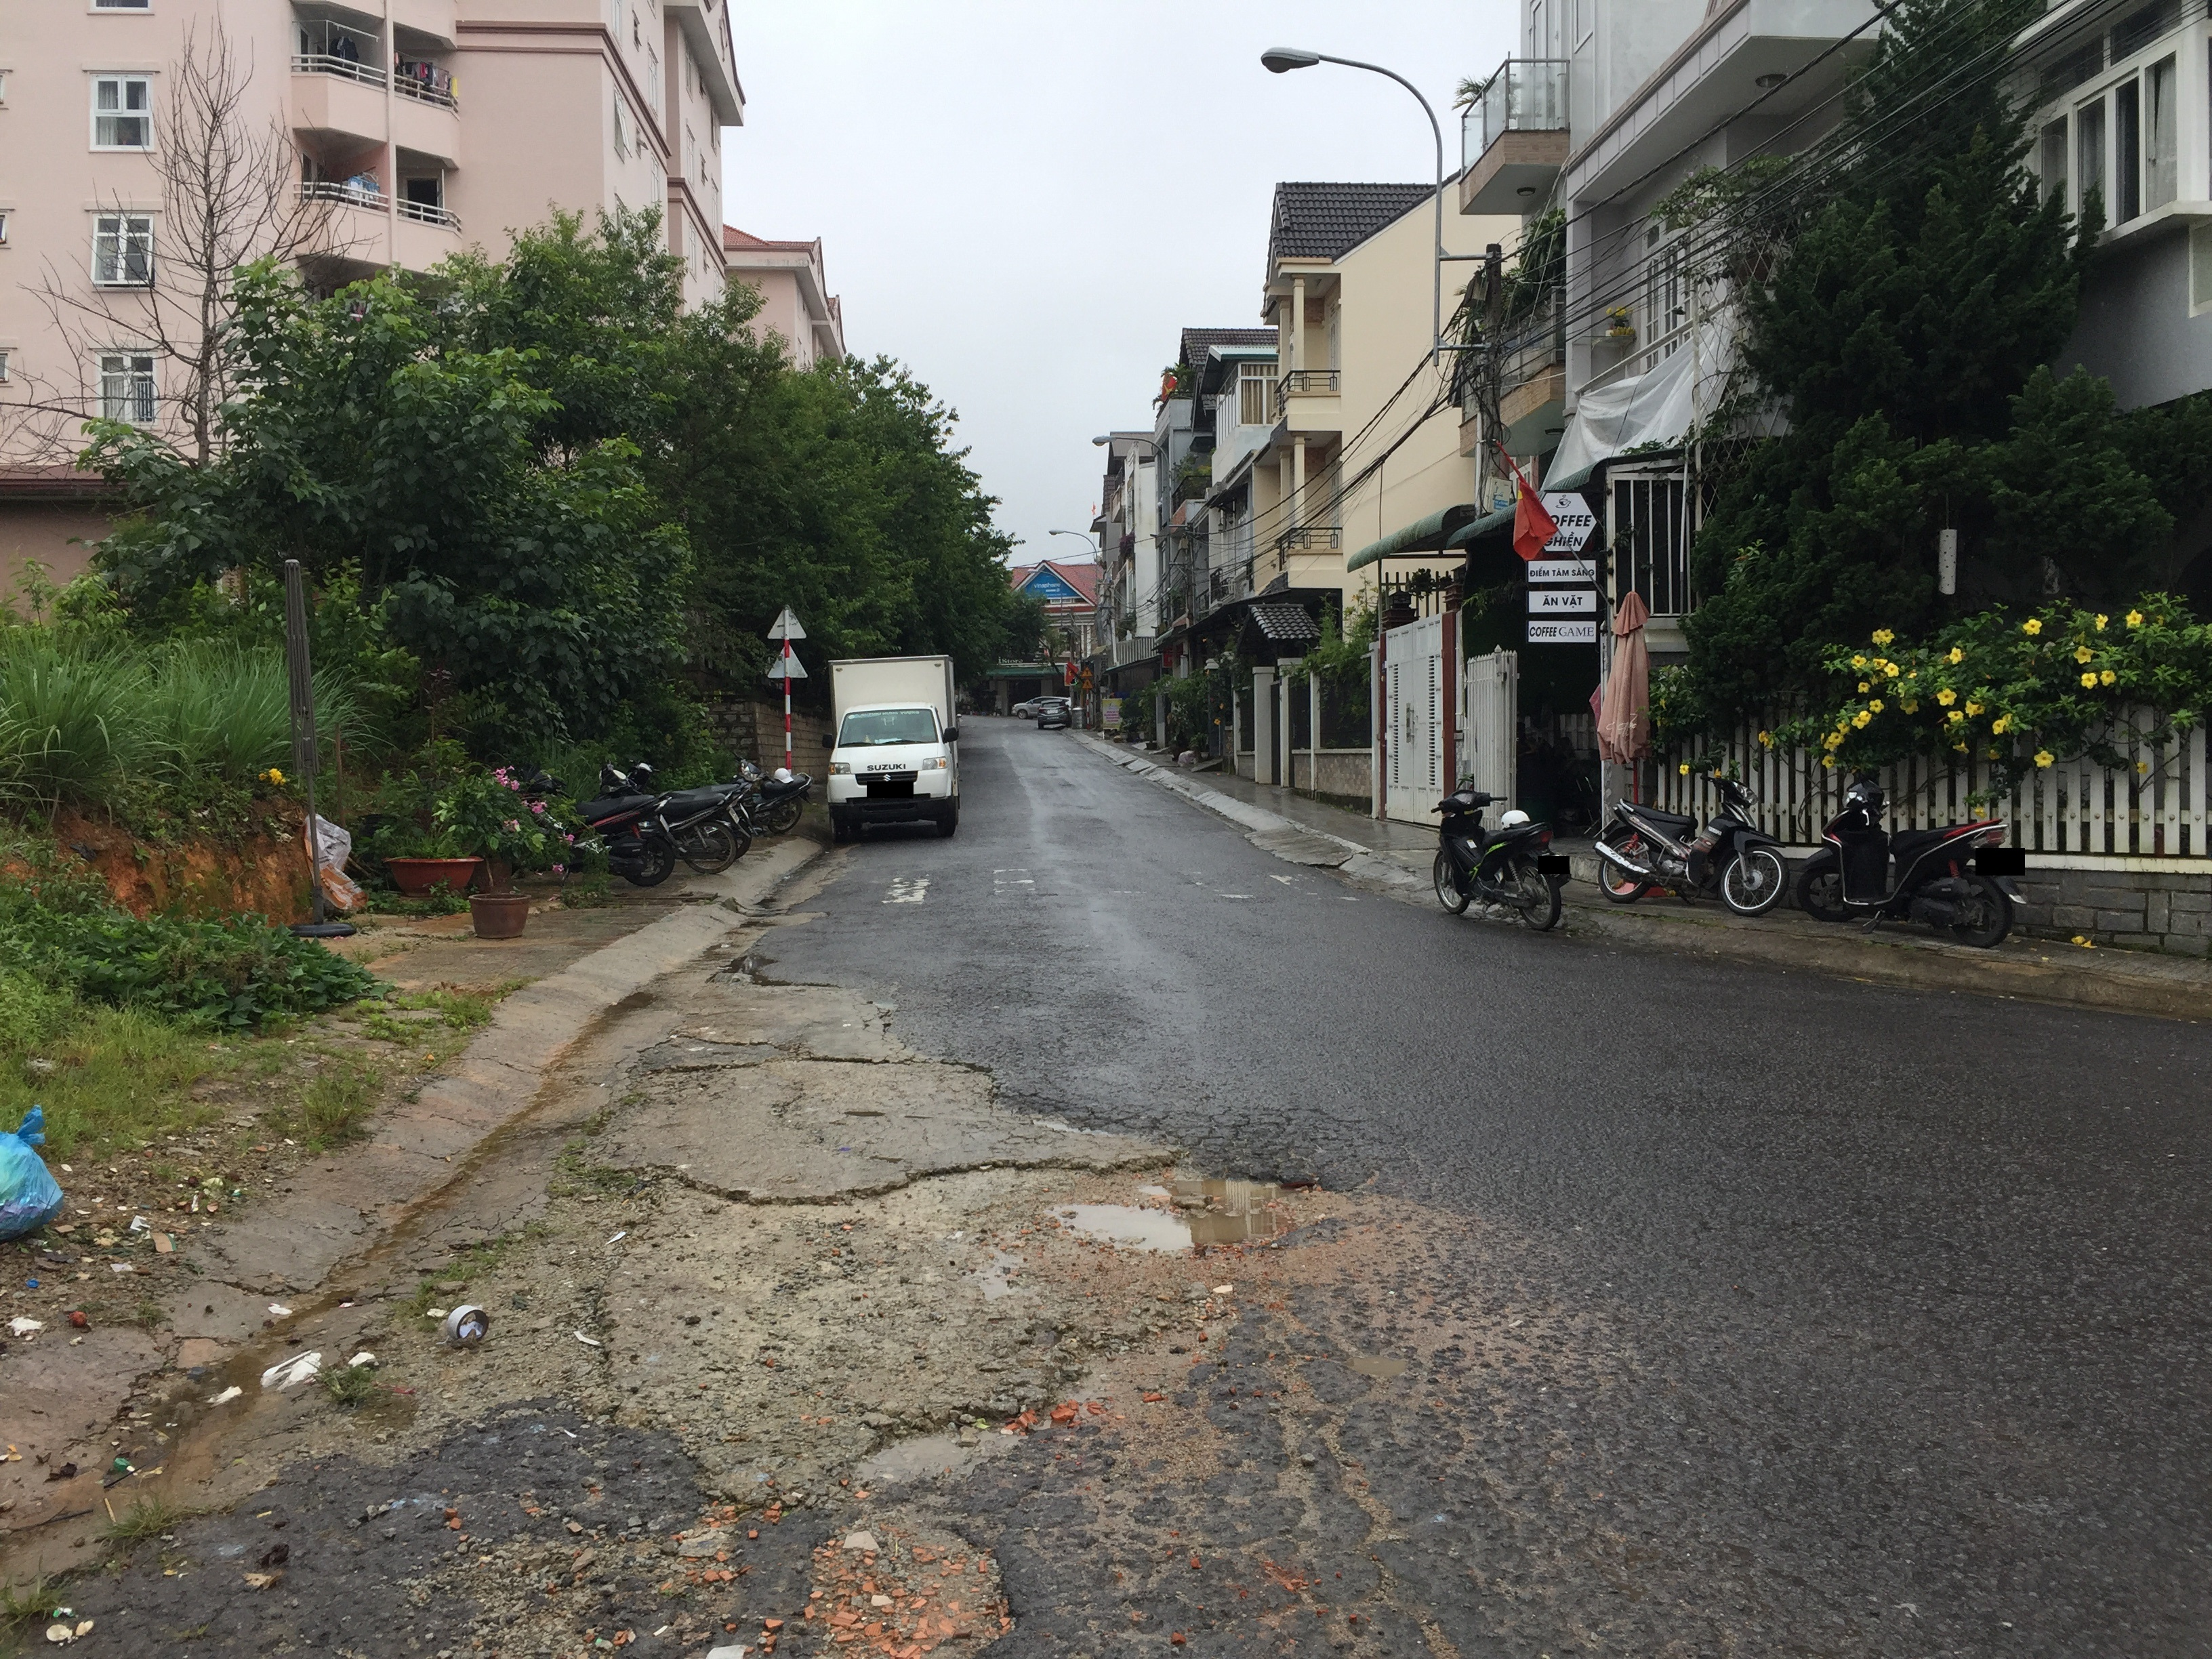hole: (782, 1509, 1031, 1659), (1033, 1150, 1366, 1262), (815, 1387, 1050, 1488), (989, 1091, 1167, 1140)
